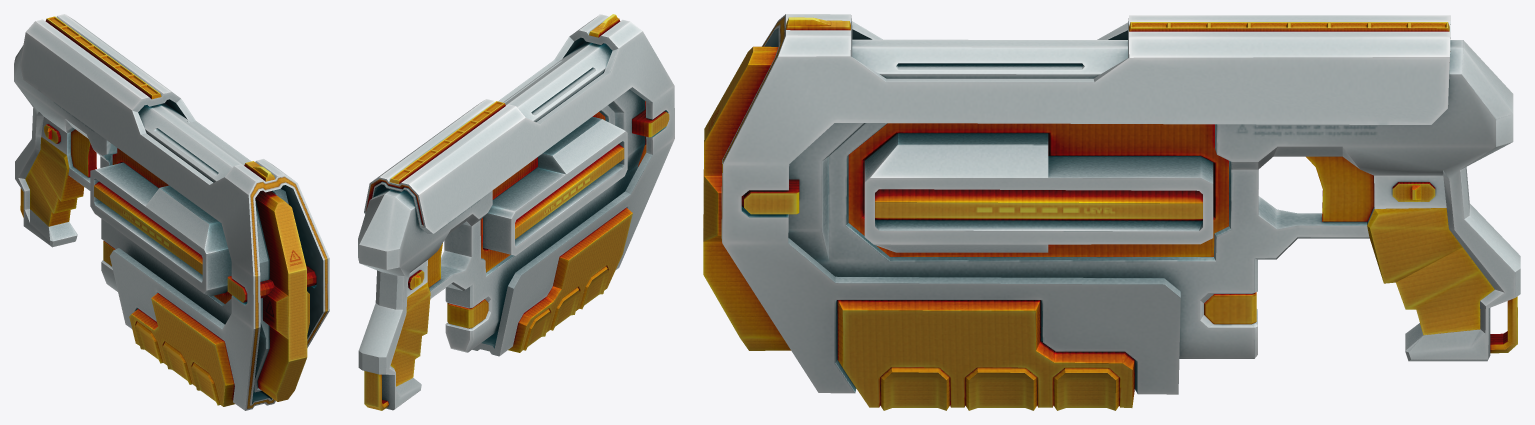
Rendered from bGUN01h.FBX.
3 views of the same model, side by side, from view 1: azimuth 30°, elevation 25°; view 2: azimuth 150°, elevation 25°; view 3: azimuth 270°, elevation 25° (orthographic). The views are drawn at different scales.
Parts seen in each view (by area): view 1: bGUN01h_action, bGUN01h_body, bGUN01h_ammo; view 2: bGUN01h_action, bGUN01h_body, bGUN01h_ammo; view 3: bGUN01h_action, bGUN01h_body, bGUN01h_ammo.
Boxes of the visible parts, x1,y1,x2,y2 form: bGUN01h_action: (20, 14, 329, 410); bGUN01h_body: (14, 45, 316, 401); bGUN01h_ammo: (90, 162, 231, 296); bGUN01h_action: (364, 14, 674, 356); bGUN01h_body: (358, 41, 669, 410); bGUN01h_ammo: (483, 116, 627, 255); bGUN01h_action: (721, 14, 1450, 410); bGUN01h_body: (703, 39, 1520, 361); bGUN01h_ammo: (864, 133, 1213, 252).
Bounding box in the file's own units: 75.65 × 229 × 450.
